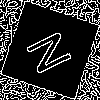N: (25, 25, 82, 77)
